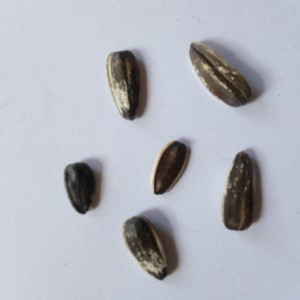girasol: (185, 36, 253, 111), (119, 215, 176, 282), (220, 148, 264, 233), (103, 47, 151, 123), (151, 138, 189, 198), (63, 159, 95, 216)
